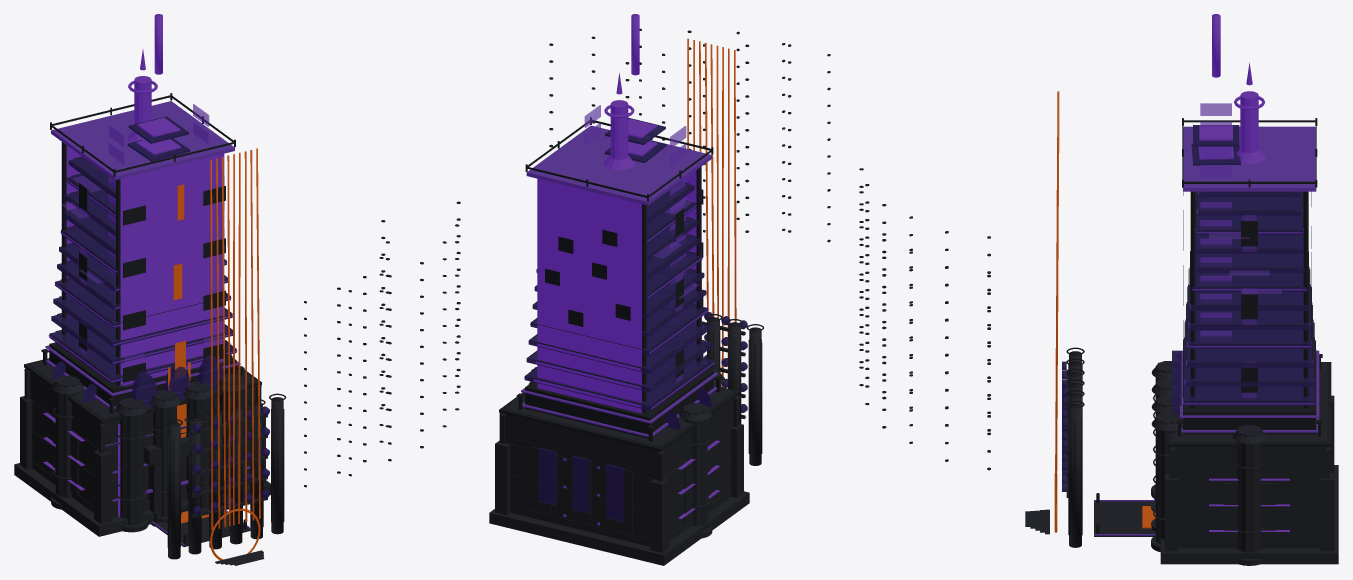
File: knowledgebase-ext-v2-draft-s76-material-fix.glb
The picture shows the model from 3 angles, left to right: view 1: azimuth 30°, elevation 25°; view 2: azimuth 150°, elevation 25°; view 3: azimuth 270°, elevation 25°; orthographic projection. The views are drawn at different scales.
Parts seen in each view (by area): view 1: knowledgebase_s74_base_combined_mesh, knowledgebase_s74_emissive_combined_mesh, knowledgebase_s74_glass_combined_mesh, knowledgebase_s74_detail_combined_mesh, knowledgebase_s74_energy_combined_mesh, knowledgebase_s74_accent_combined_mesh, knowledgebase_s74_holo_combined_mesh; view 2: knowledgebase_s74_base_combined_mesh, knowledgebase_s74_emissive_combined_mesh, knowledgebase_s74_glass_combined_mesh, knowledgebase_s74_detail_combined_mesh, knowledgebase_s74_accent_combined_mesh, knowledgebase_s74_energy_combined_mesh, knowledgebase_s74_holo_combined_mesh; view 3: knowledgebase_s74_base_combined_mesh, knowledgebase_s74_glass_combined_mesh, knowledgebase_s74_detail_combined_mesh, knowledgebase_s74_accent_combined_mesh, knowledgebase_s74_emissive_combined_mesh, knowledgebase_s74_holo_combined_mesh, knowledgebase_s74_energy_combined_mesh.
Boxes of the visible parts, <box> form: knowledgebase_s74_base_combined_mesh: <box>14,340,283,565</box>; knowledgebase_s74_emissive_combined_mesh: <box>43,14,237,516</box>; knowledgebase_s74_glass_combined_mesh: <box>49,116,269,514</box>; knowledgebase_s74_detail_combined_mesh: <box>24,93,460,548</box>; knowledgebase_s74_energy_combined_mesh: <box>168,148,260,560</box>; knowledgebase_s74_accent_combined_mesh: <box>45,101,250,545</box>; knowledgebase_s74_holo_combined_mesh: <box>62,104,224,386</box>; knowledgebase_s74_base_combined_mesh: <box>489,317,761,565</box>; knowledgebase_s74_emissive_combined_mesh: <box>524,14,719,525</box>; knowledgebase_s74_glass_combined_mesh: <box>524,117,747,521</box>; knowledgebase_s74_detail_combined_mesh: <box>499,28,830,516</box>; knowledgebase_s74_accent_combined_mesh: <box>521,125,717,437</box>; knowledgebase_s74_energy_combined_mesh: <box>687,38,736,388</box>; knowledgebase_s74_holo_combined_mesh: <box>584,105,699,383</box>; knowledgebase_s74_base_combined_mesh: <box>1025,351,1338,565</box>; knowledgebase_s74_glass_combined_mesh: <box>1062,125,1314,491</box>; knowledgebase_s74_detail_combined_mesh: <box>859,118,1331,536</box>; knowledgebase_s74_accent_combined_mesh: <box>1094,126,1319,535</box>; knowledgebase_s74_emissive_combined_mesh: <box>1183,14,1315,531</box>; knowledgebase_s74_holo_combined_mesh: <box>1200,103,1281,397</box>; knowledgebase_s74_energy_combined_mesh: <box>1054,91,1155,532</box>.
Size of the model in its own units: 8.48 by 14.04 by 11.85.
